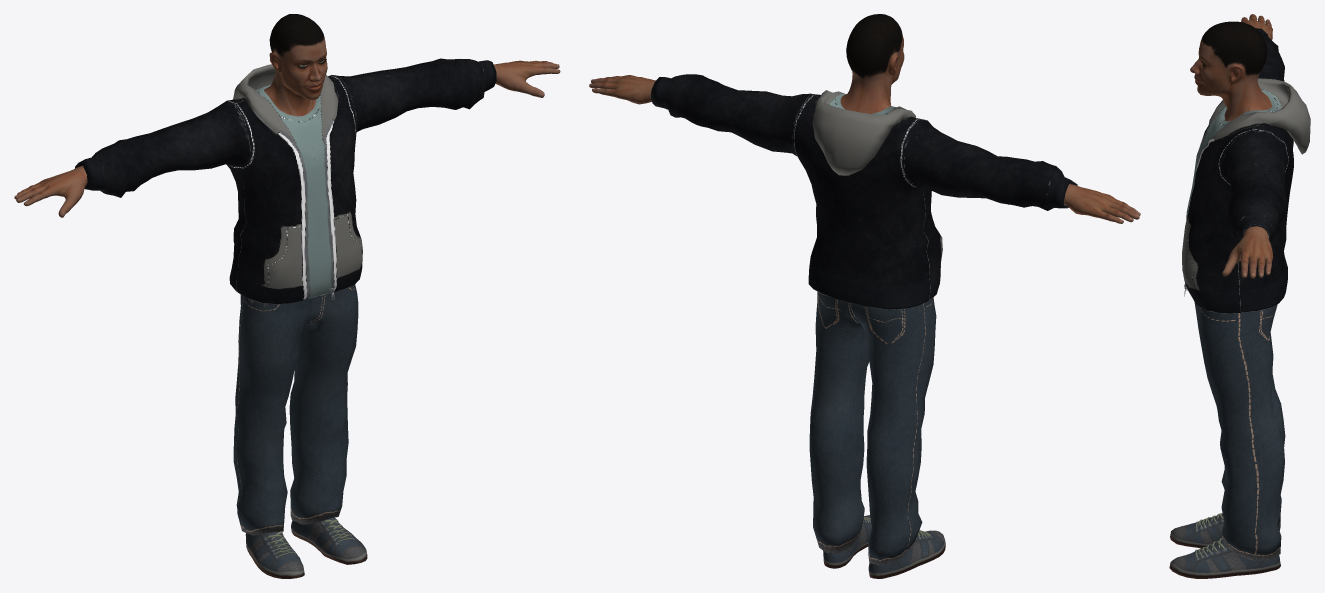
File: Male_OBJ.obj
The picture shows the model from 3 angles, left to right: view 1: azimuth 30°, elevation 25°; view 2: azimuth 150°, elevation 25°; view 3: azimuth 270°, elevation 25°; orthographic projection.
Visible parts, largest first — view 1: ClothMesh_0, ClothMesh_2, BodyParts, ClothMesh_1; view 2: ClothMesh_0, ClothMesh_2, BodyParts, ClothMesh_1; view 3: ClothMesh_0, ClothMesh_2, BodyParts, ClothMesh_1.
Part boxes in pixels (x1,y1,x2,y2): ClothMesh_0: [75, 58, 496, 304]; ClothMesh_2: [233, 284, 358, 535]; BodyParts: [14, 14, 560, 217]; ClothMesh_1: [245, 517, 367, 578]; ClothMesh_0: [650, 74, 1077, 309]; ClothMesh_2: [809, 291, 936, 565]; BodyParts: [589, 14, 1140, 223]; ClothMesh_1: [823, 515, 945, 578]; ClothMesh_0: [1182, 28, 1310, 313]; ClothMesh_2: [1194, 302, 1285, 560]; BodyParts: [1190, 14, 1273, 278]; ClothMesh_1: [1169, 513, 1280, 578].
Size of the model in its own units: 191 by 179 by 43.04.
4 materials, 4 textured.
